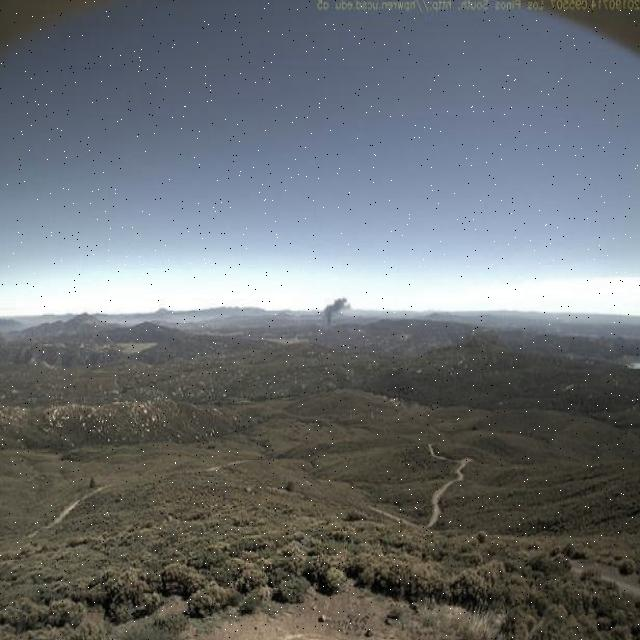smoke: (322, 287, 355, 333)
